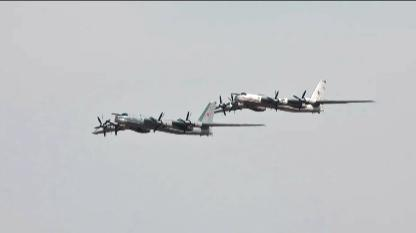Su57: (91, 99, 268, 136), (214, 77, 376, 115)
